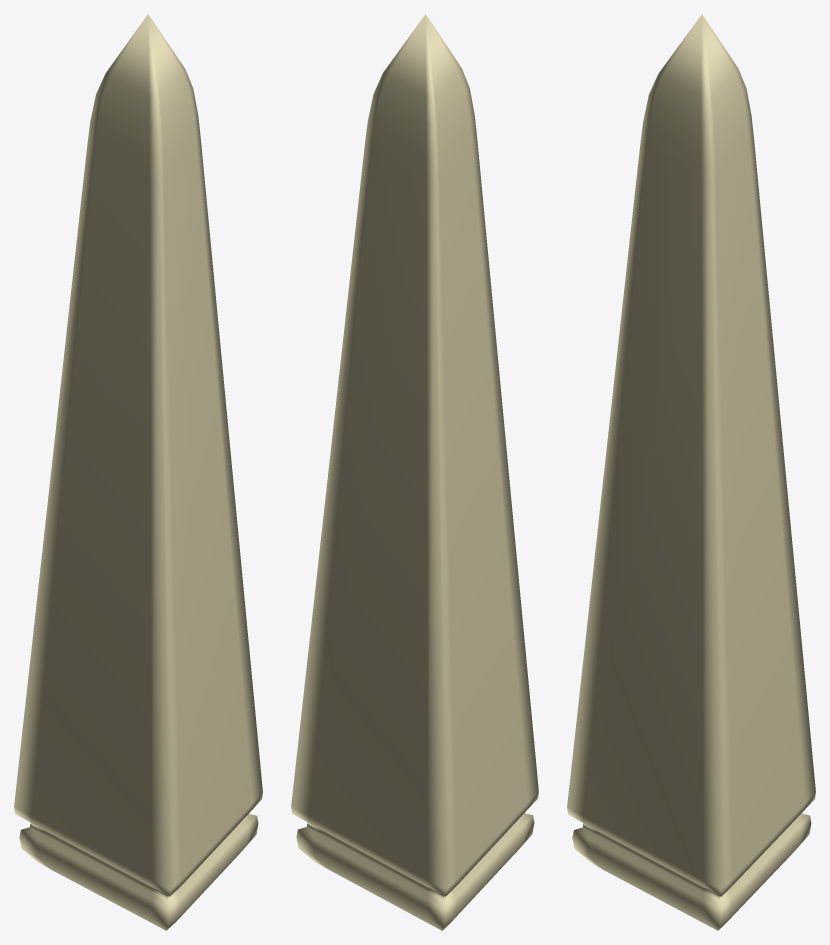
Rendered from obelisk.fbx.
3 views of the same model, side by side, from view 1: azimuth 30°, elevation 25°; view 2: azimuth 150°, elevation 25°; view 3: azimuth 270°, elevation 25° (orthographic).
Parts seen in each view (by area): view 1: Cube_000; view 2: Cube_000; view 3: Cube_000.
Boxes of the visible parts, box(x1,y1,x2,y2) form: Cube_000: box(14, 14, 262, 930); Cube_000: box(291, 14, 538, 930); Cube_000: box(567, 14, 815, 930).
Size of the model in its own units: 1.29 by 5.31 by 1.38.
